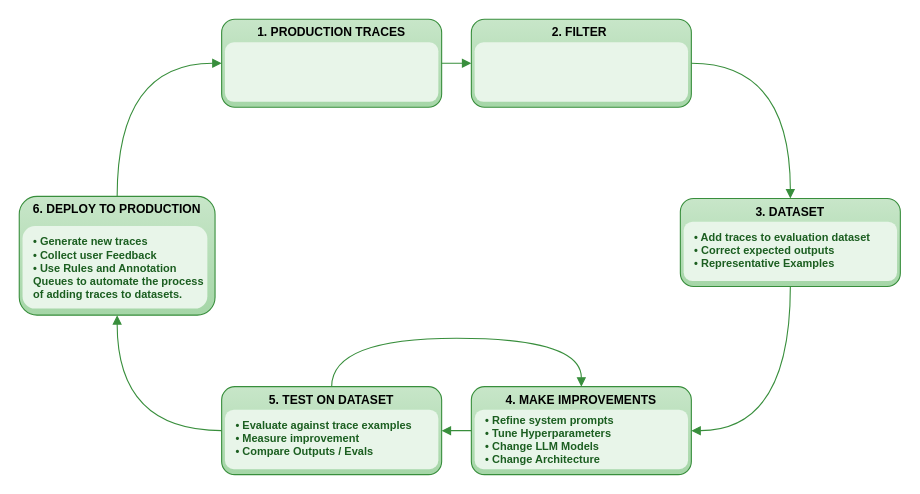
The diagram is 920 pixels wide and 494 high, and some of its shapes have lost their labels. Here are the shapes that lost their labels. From the top down, the centre of each, then its label:
(331,71): • Capture real user interactions • Real-World Inputs and Outputs
(581,71): • Identify cases to improve • Errors, negative feedback • Edge cases, failures
